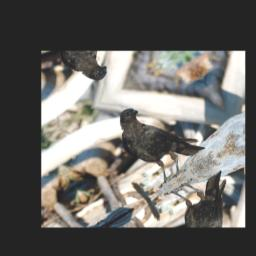Crow: (103, 85, 212, 192)
